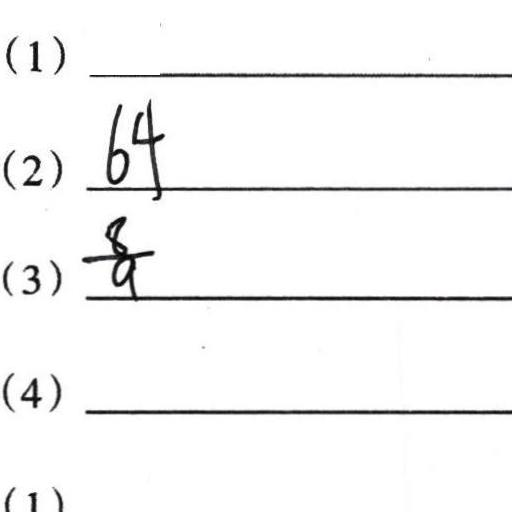ans: (96, 93, 167, 197), (80, 213, 155, 295)
